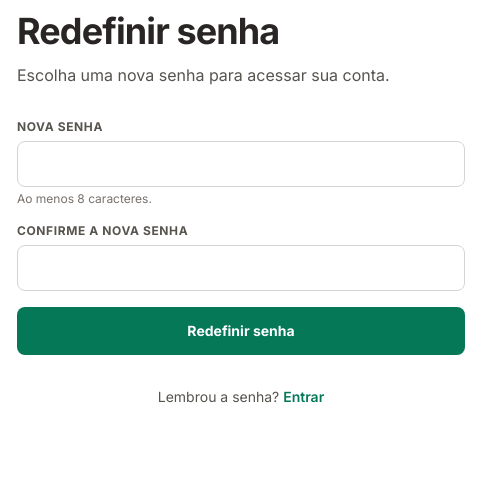
Test case: RedefinirSenha › recusa quando a senha e a confirmação são diferentes
In the password field labelled "Nova senha": [241, 164] box [17,141,465,187], type "senhaforte123"
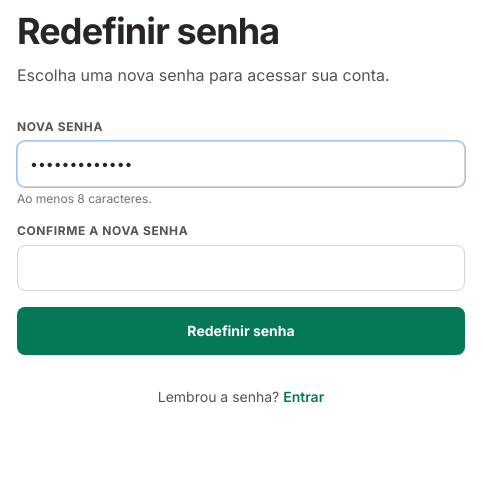
In the password field labelled "Confirme a nova senha": [241, 268] box [17,245,465,291], type "senhaforte124"
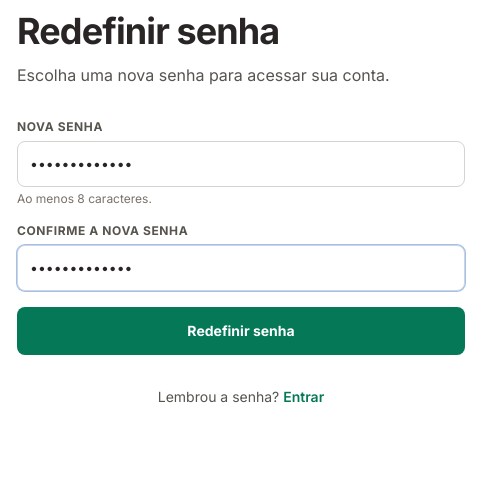
Click the button "Redefinir senha": [241, 331] box [17,307,465,355]
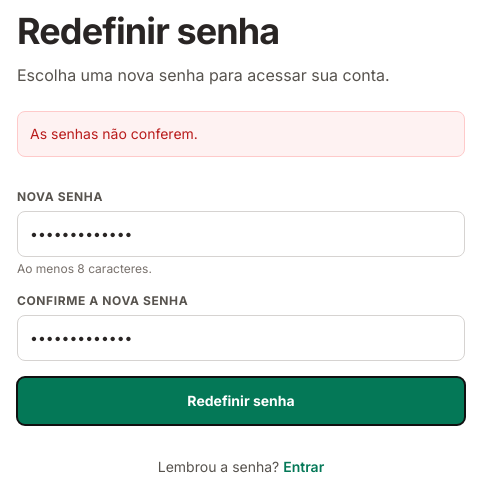
Now the message reads "As senhas não conferem.", box [30,125,198,142]
